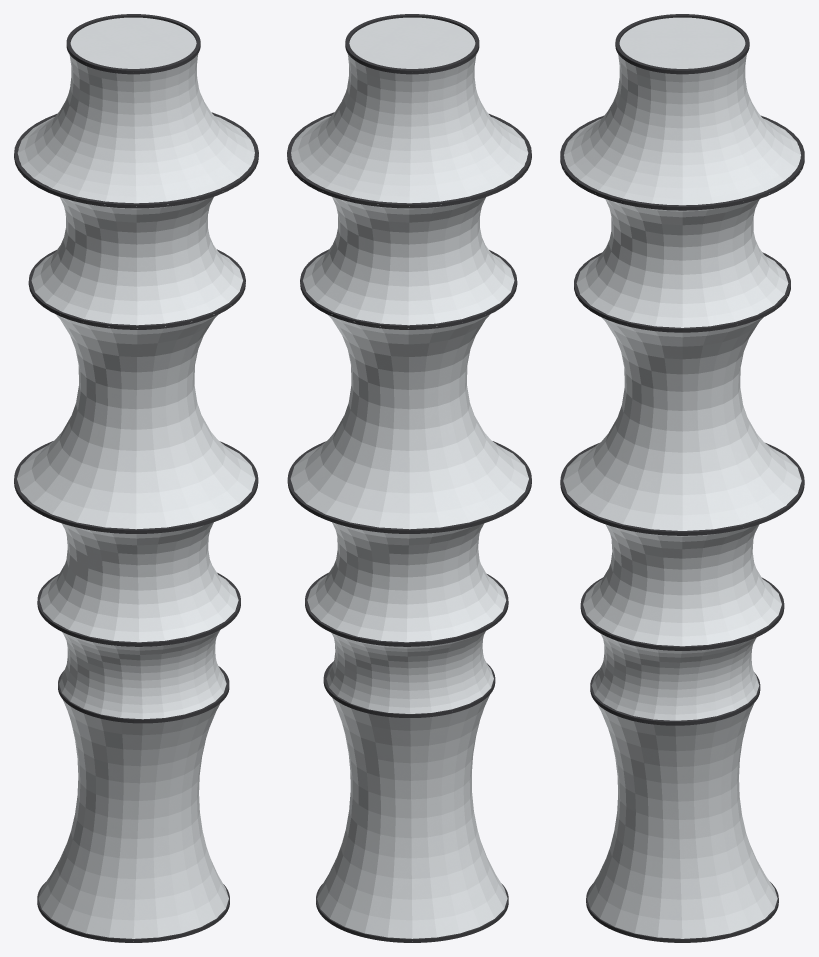
The model's file is falkland.glb.
3 views of the same model, side by side, from view 1: azimuth 30°, elevation 25°; view 2: azimuth 150°, elevation 25°; view 3: azimuth 270°, elevation 25° (orthographic).
Visible parts, largest first — view 1: falkland; view 2: falkland; view 3: falkland.
Boxes of the visible parts, left/top/right/bottom form: falkland: left=14, top=14, right=258, bottom=942; falkland: left=287, top=14, right=531, bottom=942; falkland: left=560, top=14, right=804, bottom=942.
Size of the model in its own units: 0.4492 by 1.74 by 0.4492.
2 materials, 1 textured.
